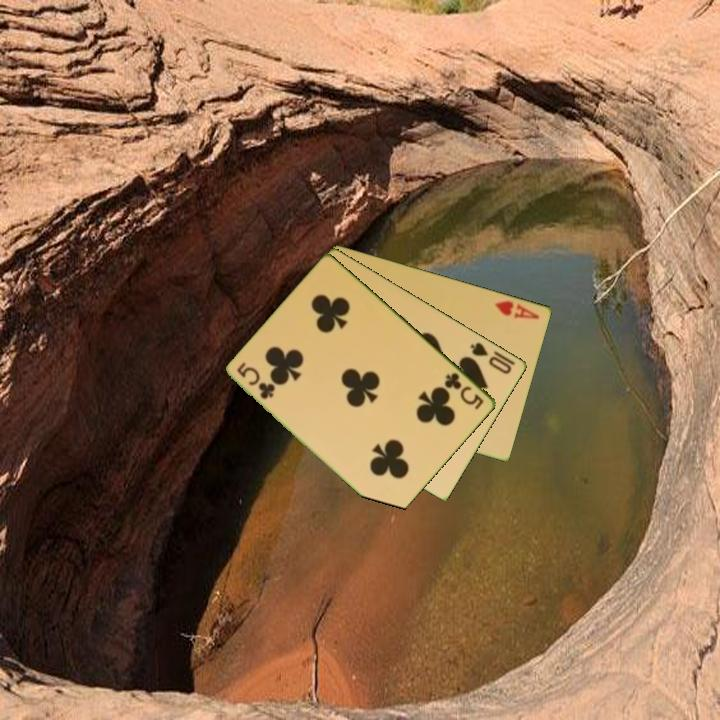10s: (467, 338, 515, 377)
5c: (441, 369, 487, 413), (234, 359, 278, 402)
Ah: (492, 297, 543, 322)
